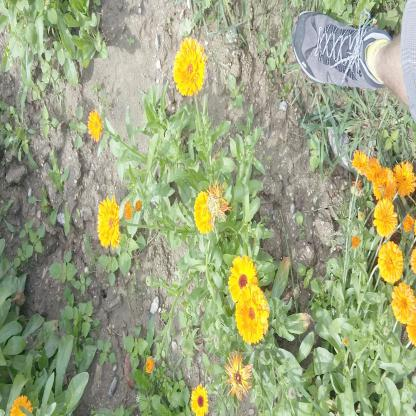marigold: (236, 285, 268, 344), (173, 37, 205, 94), (229, 257, 259, 299), (378, 241, 403, 286), (97, 199, 119, 247), (393, 281, 414, 323), (193, 192, 213, 235), (373, 199, 397, 233), (374, 169, 396, 199), (396, 163, 414, 196), (191, 385, 210, 415), (88, 110, 103, 140), (353, 147, 366, 174), (366, 156, 379, 180)
